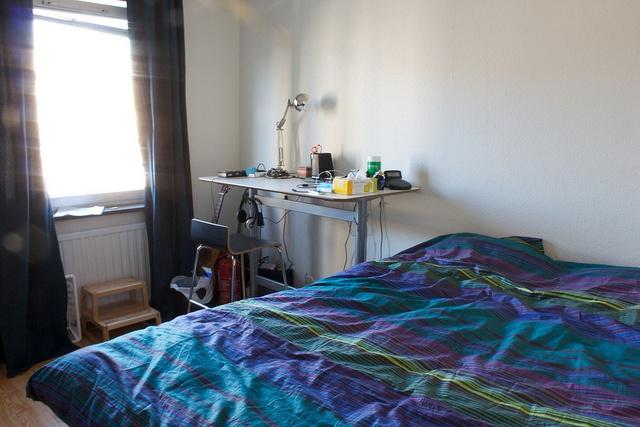Meja: (197, 165, 422, 207)
